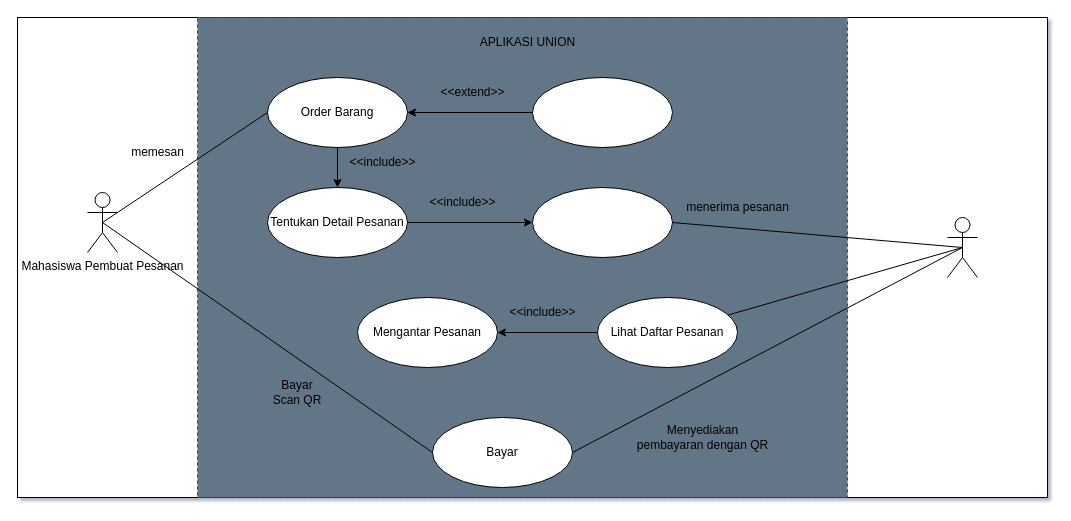
This 1071x521 diagram has some shape labels left out. The shapes that lost their labels are listed below. From the top down, each one's centre as x and y in pixels, then its label:
point (602, 112): Order Makanan
point (602, 222): Buat Pesanan
point (962, 247): Mahasiswa Pengirim Pesanan
